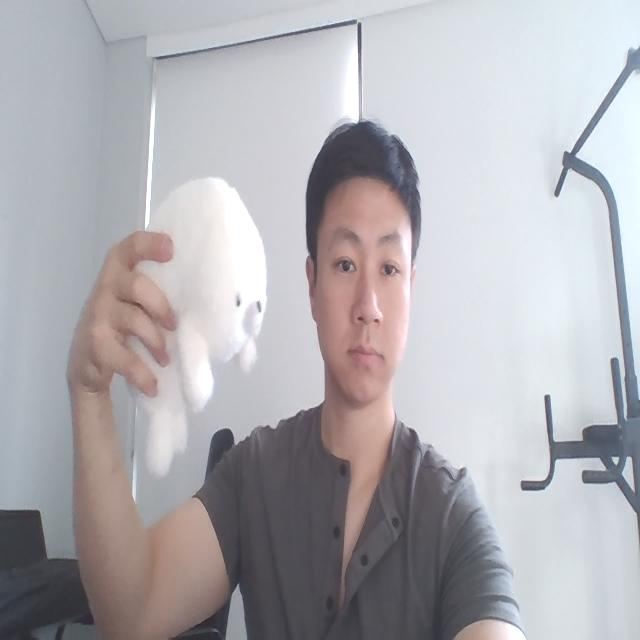seal_bb: (125, 175, 268, 482)
